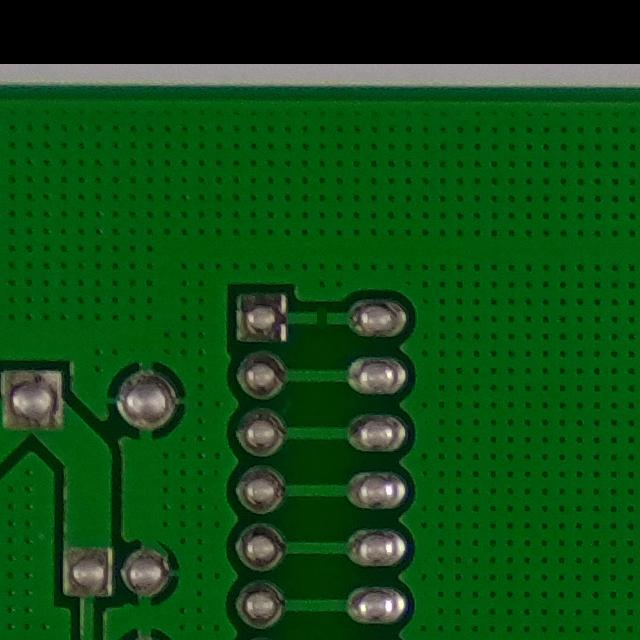open_circuit: (307, 303, 334, 337)
